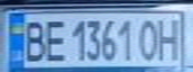1: (115, 16, 136, 62), (66, 17, 87, 62)
3: (84, 16, 103, 62)
6: (100, 16, 121, 62)
B: (18, 17, 48, 63)
E: (39, 16, 69, 63)
H: (154, 15, 187, 61)
O: (136, 16, 163, 62)
